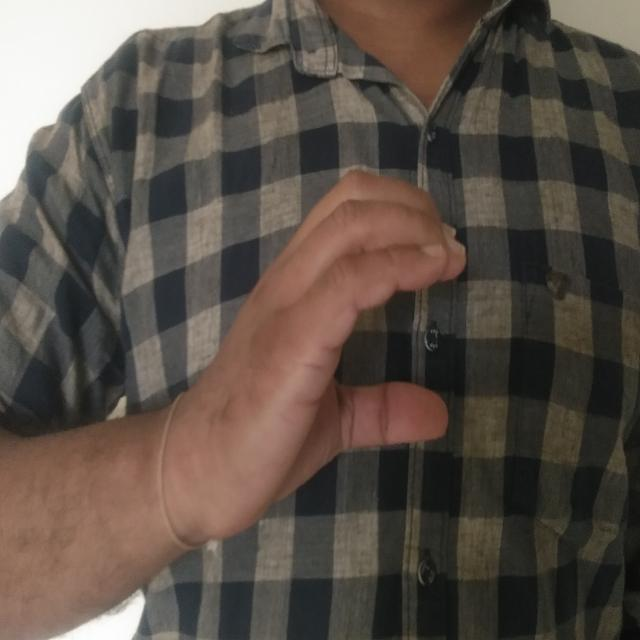c: (172, 151, 478, 590)
